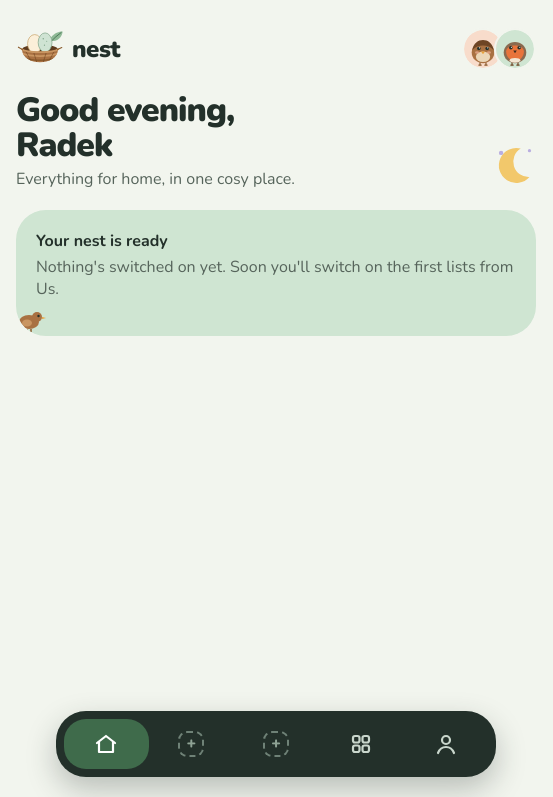
us › a new password needs eight characters and a match
Later steps or results of the test are not shown.
Click the button named "Us". click: (446, 744)
box: [403,719,488,769]
(page scrolled)
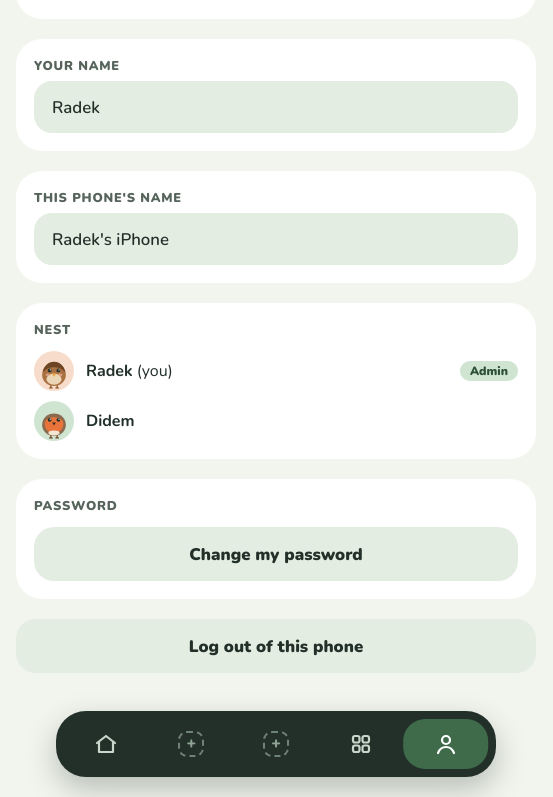
Click the button "Change my password". click: (276, 554)
box: [34,527,518,581]
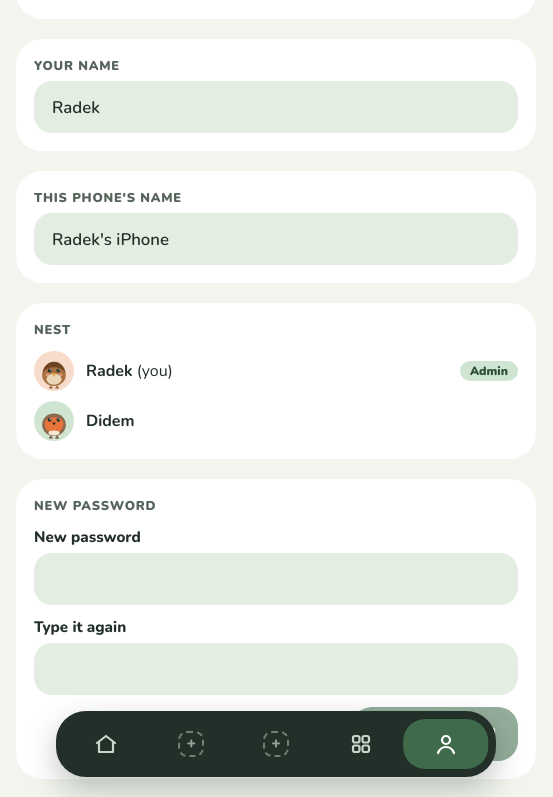
Type "short" into the password field labelled "New password". click: (276, 579)
box: [34,553,518,605]
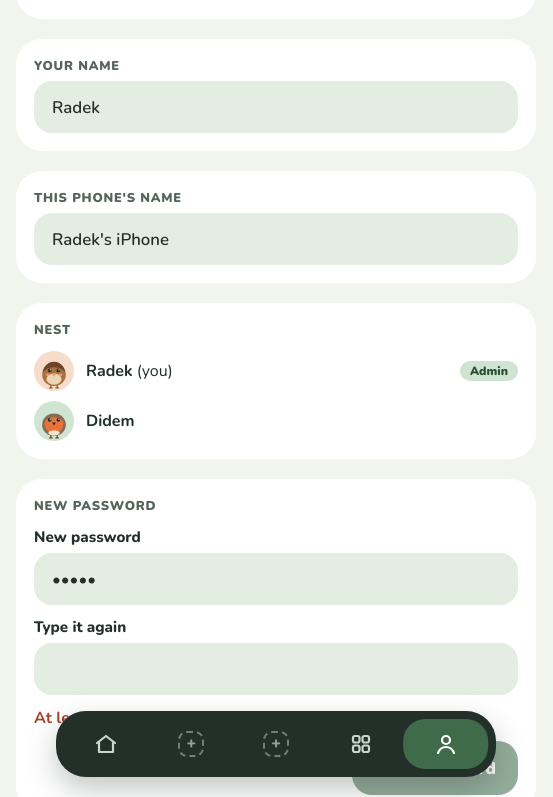
Now the message shows "At least 8 characters", box [34,707,248,729]
